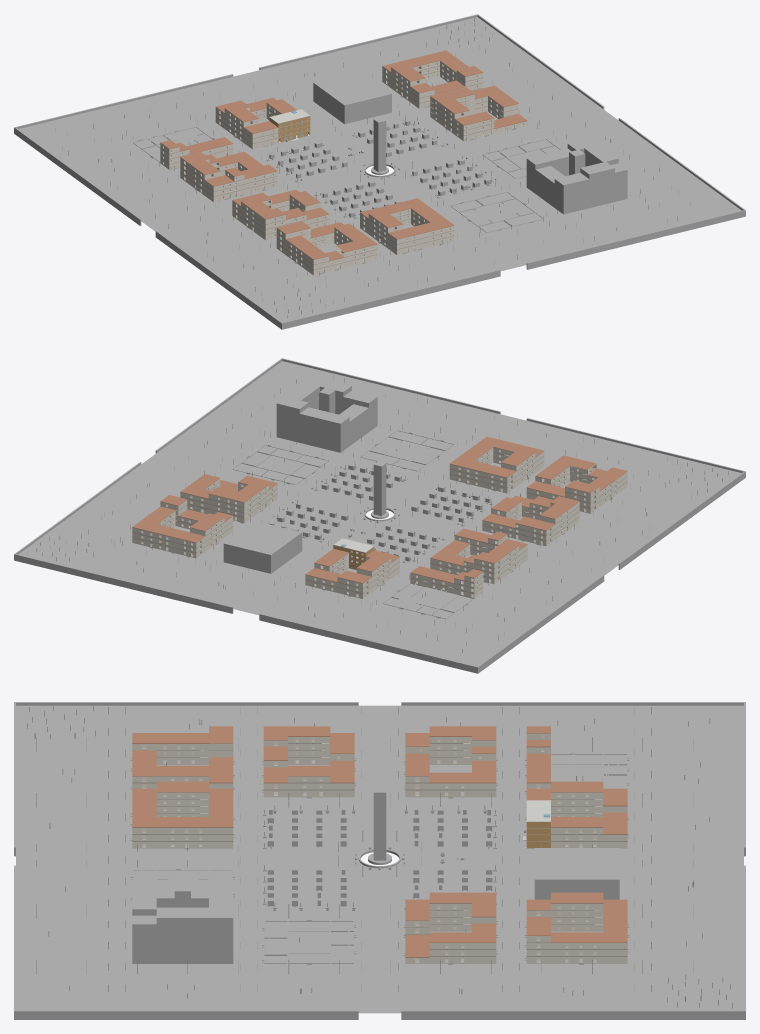
File: world-city3-collision.glb
The picture shows the model from 3 angles, top to bottom: view 1: azimuth 30°, elevation 25°; view 2: azimuth 150°, elevation 25°; view 3: azimuth 270°, elevation 25°; orthographic projection. The views are drawn at different scales.
Parts seen in each view (by area): view 1: col_ground, col_buildings, col_quay, col_stalls, col_props, col_heroes, col_bones_shop46, col_bazaar_open, col_bones_shop96, col_bones_shop62, col_bones_shop101, col_bones_shop99 (+14 smaller); view 2: col_ground, col_buildings, col_quay, col_stalls, col_props, col_heroes, col_bazaar_open, col_bones_shop178, col_bones_shop47, col_bones_shop98, col_bones_shop97, col_bones_shop105 (+19 smaller); view 3: col_ground, col_buildings, col_quay, col_stalls, col_props, col_bones_shop179, col_bones_shop99, col_bones_shop105, col_bones_shop170, col_bones_shop180, col_bones_shop50, col_bones_shop100 (+27 smaller).
Boxes of the visible parts, bbox=[...] form: col_ground: bbox=[18, 17, 741, 322]; col_buildings: bbox=[313, 71, 627, 214]; col_quay: bbox=[14, 14, 745, 329]; col_stalls: bbox=[269, 120, 491, 217]; col_props: bbox=[55, 17, 690, 318]; col_heroes: bbox=[133, 95, 560, 274]; col_bones_shop46: bbox=[335, 237, 377, 267]; col_bazaar_open: bbox=[148, 133, 549, 229]; col_bones_shop96: bbox=[414, 219, 454, 248]; col_bones_shop62: bbox=[241, 164, 277, 194]; col_bones_shop101: bbox=[243, 121, 278, 149]; col_bones_shop99: bbox=[368, 210, 403, 248]; col_ground: bbox=[18, 361, 741, 666]; col_buildings: bbox=[223, 379, 386, 573]; col_quay: bbox=[14, 358, 745, 673]; col_stalls: bbox=[269, 463, 490, 561]; col_props: bbox=[27, 375, 728, 652]; col_heroes: bbox=[149, 430, 612, 618]; col_bazaar_open: bbox=[234, 429, 458, 613]; col_bones_shop178: bbox=[132, 520, 173, 550]; col_bones_shop47: bbox=[565, 480, 599, 513]; col_bones_shop98: bbox=[449, 457, 489, 487]; col_bones_shop97: bbox=[481, 465, 516, 493]; col_bones_shop105: bbox=[356, 554, 391, 592]; col_ground: bbox=[16, 705, 743, 1013]; col_buildings: bbox=[132, 787, 619, 963]; col_quay: bbox=[14, 702, 745, 1019]; col_stalls: bbox=[267, 807, 492, 906]; col_props: bbox=[27, 705, 732, 1008]; col_bones_shop179: bbox=[551, 892, 603, 931]; col_bones_shop99: bbox=[156, 781, 208, 816]; col_bones_shop105: bbox=[551, 781, 603, 816]; col_bones_shop170: bbox=[429, 892, 471, 931]; col_bones_shop180: bbox=[551, 932, 603, 963]; col_bones_shop50: bbox=[156, 733, 208, 764]; col_bones_shop100: bbox=[156, 817, 208, 848].
Bounding box in the file's own units: 362 × 41.2 × 362.
